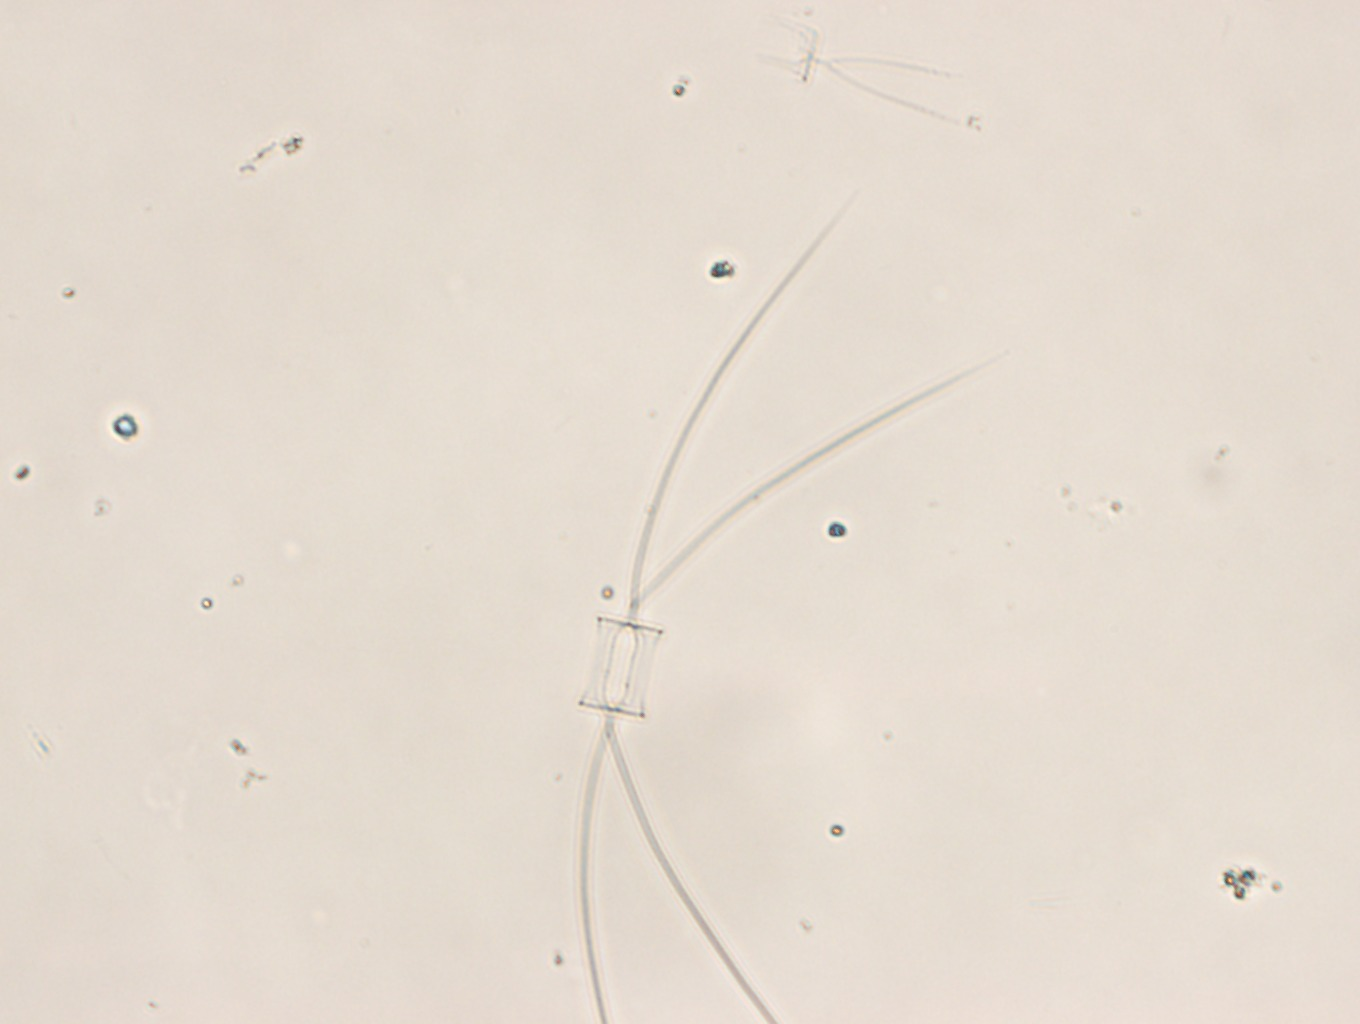chaetoceros: (581, 194, 1010, 1024), (756, 14, 969, 124)
